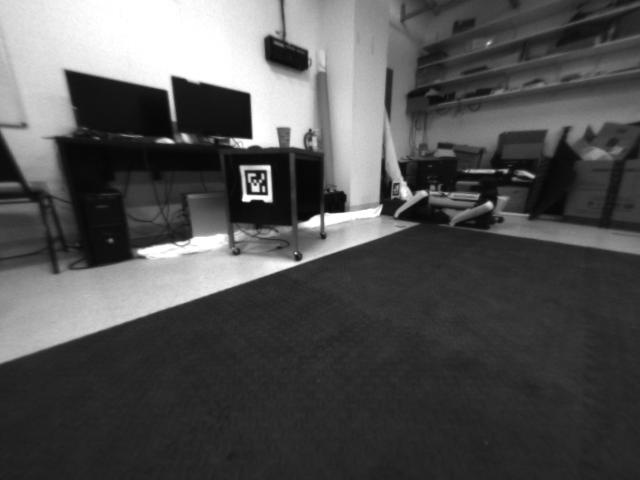coffee_cup: (273, 125, 294, 148)
